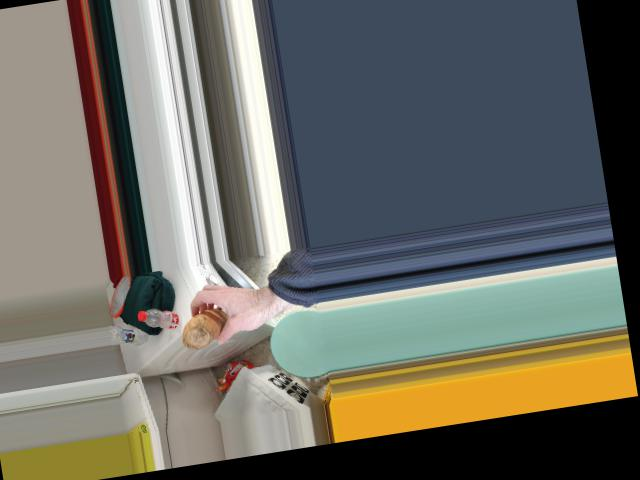sweet_potato: (178, 303, 232, 351)
